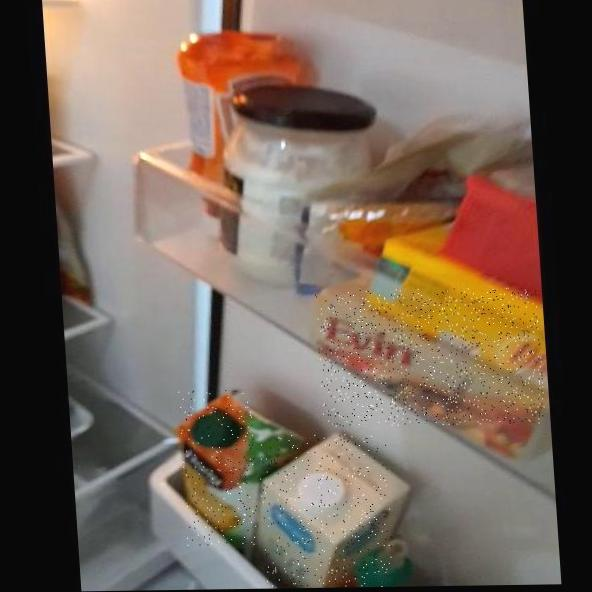butter: (315, 287, 546, 427)
juice: (177, 390, 260, 546)
milk: (257, 433, 394, 589)
